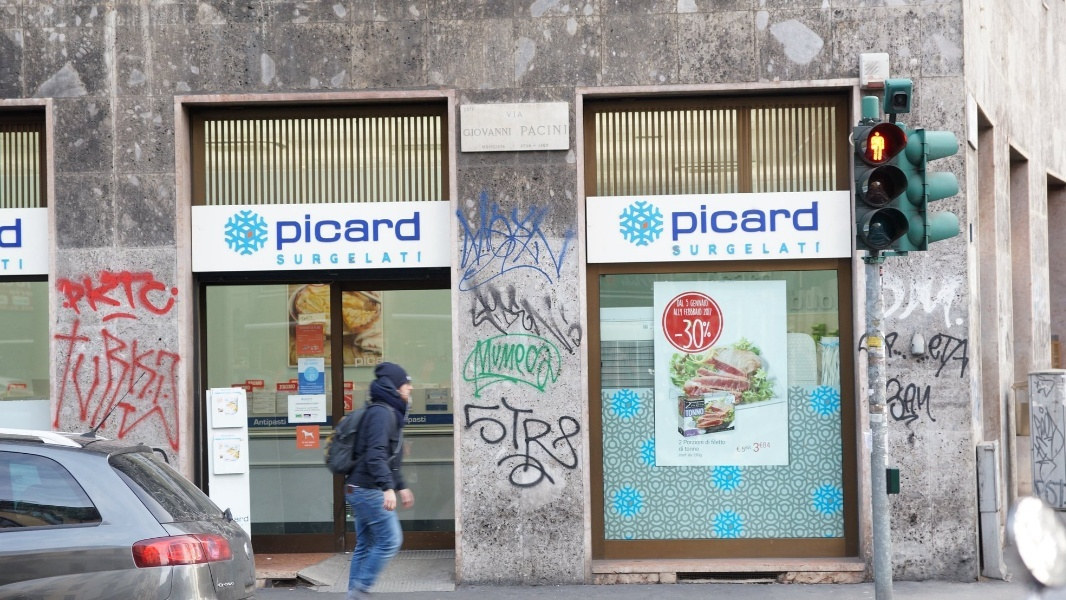text: (65, 309, 80, 458), (81, 309, 96, 458), (97, 309, 112, 458), (113, 309, 128, 458), (129, 309, 144, 458), (145, 309, 160, 458), (161, 309, 176, 458), (465, 187, 480, 298), (481, 187, 496, 298), (497, 187, 512, 298), (513, 187, 528, 298), (529, 187, 544, 298), (545, 187, 560, 298), (561, 187, 576, 298), (465, 394, 480, 491), (481, 394, 496, 491), (497, 394, 512, 491), (513, 394, 528, 491), (529, 394, 544, 491), (545, 394, 560, 491), (561, 394, 576, 491), (451, 187, 464, 298), (897, 378, 912, 446), (913, 378, 928, 446), (929, 328, 944, 391), (945, 328, 960, 391), (481, 337, 496, 399), (497, 337, 512, 399), (513, 337, 528, 399), (529, 337, 544, 399), (545, 337, 560, 399), (897, 272, 912, 332), (913, 272, 928, 332), (929, 272, 944, 332), (945, 272, 960, 332), (58, 309, 64, 458), (929, 378, 942, 446), (65, 267, 80, 324), (81, 267, 96, 324), (97, 267, 112, 324), (113, 267, 128, 324), (129, 267, 144, 324), (145, 267, 160, 324), (161, 267, 176, 324), (882, 272, 896, 332), (467, 337, 480, 399), (961, 328, 973, 391), (885, 378, 896, 446), (289, 210, 304, 254), (305, 210, 320, 254), (321, 210, 336, 254), (337, 210, 352, 254), (353, 210, 368, 254), (369, 210, 384, 254), (385, 210, 400, 254), (401, 210, 416, 254), (961, 272, 972, 332), (673, 201, 688, 243), (689, 201, 704, 243), (705, 201, 720, 243), (721, 201, 736, 243), (737, 201, 752, 243), (753, 201, 768, 243), (769, 201, 784, 243), (785, 201, 800, 243), (801, 201, 816, 243), (274, 210, 288, 254), (55, 267, 64, 324), (673, 318, 688, 351), (689, 318, 704, 351), (1, 217, 16, 250), (577, 394, 582, 491), (177, 309, 180, 458), (561, 337, 567, 399), (577, 187, 580, 298), (417, 210, 423, 254), (705, 318, 713, 351), (924, 328, 928, 391), (17, 217, 23, 250), (1, 259, 16, 271), (273, 418, 289, 429), (817, 201, 821, 243), (690, 244, 704, 256), (529, 125, 544, 136), (545, 125, 560, 136), (257, 418, 272, 429), (753, 442, 768, 453), (19, 259, 32, 271), (465, 127, 480, 137), (481, 127, 496, 137), (497, 127, 512, 137), (708, 244, 720, 256), (689, 408, 704, 417), (277, 254, 288, 266), (674, 308, 688, 317), (726, 243, 736, 255), (691, 299, 704, 308), (691, 401, 704, 410), (177, 267, 179, 324), (689, 308, 703, 316), (295, 254, 304, 265), (519, 125, 528, 136), (677, 299, 688, 308), (405, 416, 416, 425), (417, 416, 428, 425), (312, 253, 320, 265), (385, 252, 393, 264), (705, 439, 720, 445), (673, 245, 681, 256), (689, 440, 705, 445), (561, 125, 568, 136), (529, 143, 544, 148), (330, 253, 336, 265), (745, 244, 752, 254), (513, 111, 523, 118), (482, 144, 496, 149), (689, 453, 703, 458), (762, 243, 768, 254), (705, 308, 713, 316), (689, 447, 701, 452), (760, 442, 768, 449), (679, 446, 688, 452), (742, 447, 752, 452), (348, 252, 352, 264), (369, 252, 373, 264), (497, 144, 506, 149), (679, 440, 688, 445), (711, 440, 720, 445), (679, 453, 688, 458), (252, 418, 256, 429), (671, 201, 672, 243), (506, 111, 512, 118), (353, 252, 356, 264), (705, 299, 709, 308), (521, 143, 528, 148), (684, 308, 688, 316), (689, 402, 693, 410), (745, 446, 752, 450), (721, 440, 726, 445), (337, 253, 339, 265), (366, 252, 368, 264), (685, 299, 688, 307), (769, 243, 771, 254), (545, 143, 549, 148), (684, 440, 688, 445), (686, 408, 688, 417), (686, 402, 688, 410), (685, 447, 688, 452), (769, 442, 771, 449), (321, 253, 322, 265), (383, 252, 384, 264), (705, 408, 706, 417), (689, 299, 690, 307)
